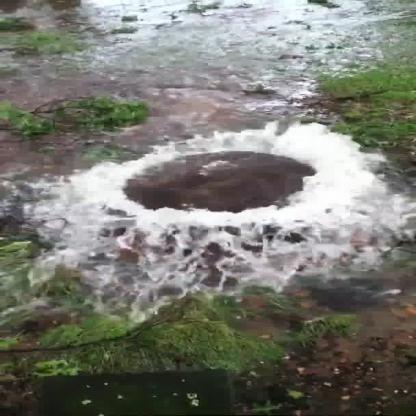drainage overflow-repair-: (26, 109, 401, 277)
